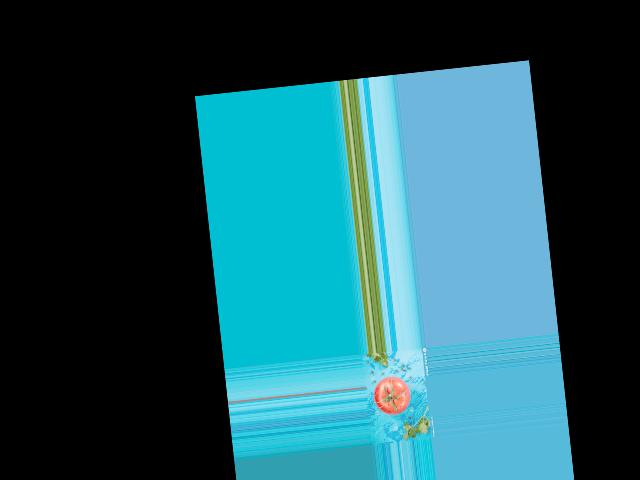tomato: (372, 375, 412, 417)
